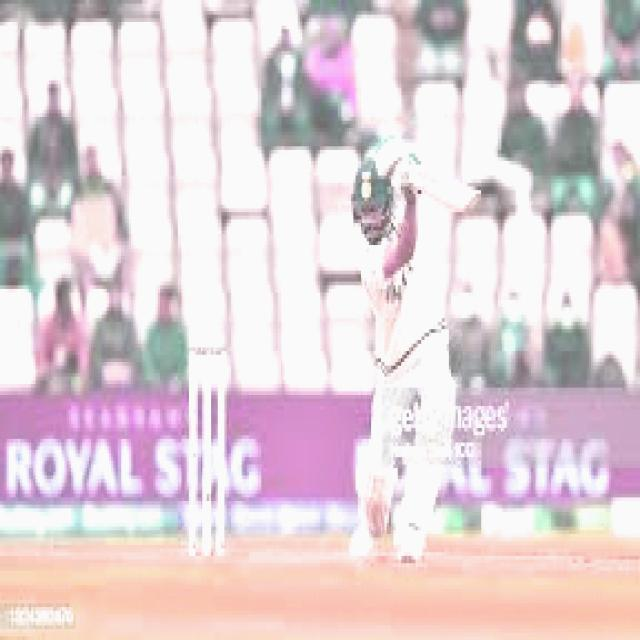bat: (398, 163, 510, 228)
toe: (455, 184, 490, 218)
